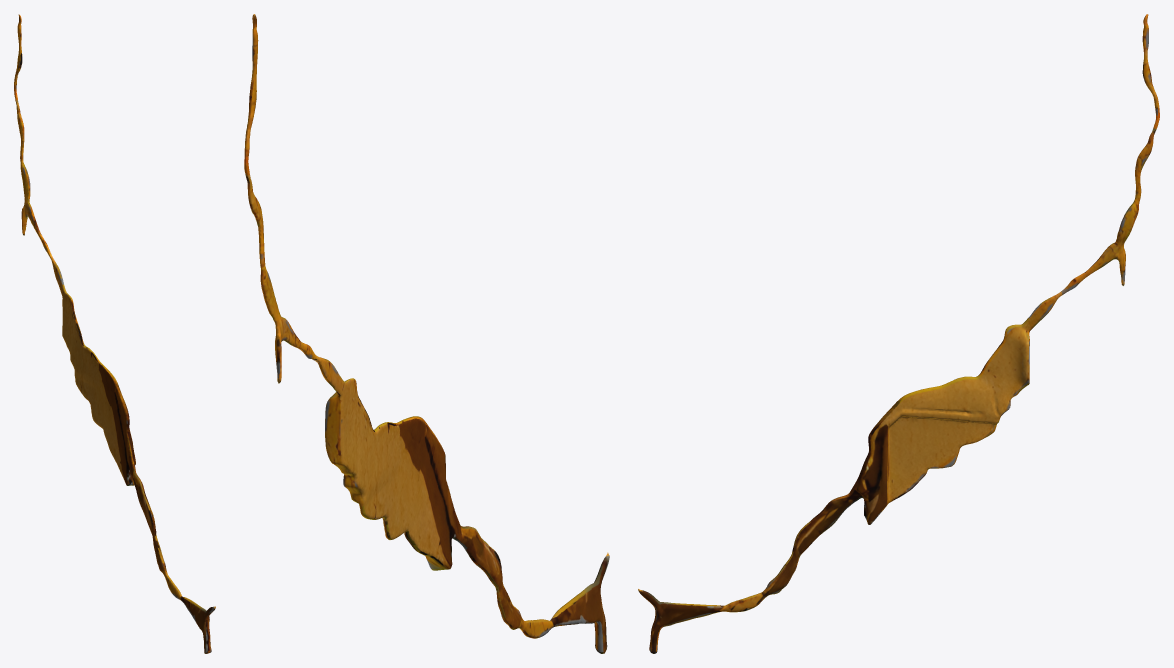
3 views of the same model, side by side, from view 1: azimuth 30°, elevation 25°; view 2: azimuth 150°, elevation 25°; view 3: azimuth 270°, elevation 25° (orthographic). The views are drawn at different scales.
Parts seen in each view (by area): view 1: tripo_node_b3bb3f70-2319-4298-b5f7-a7b85ff54e8c; view 2: tripo_node_b3bb3f70-2319-4298-b5f7-a7b85ff54e8c; view 3: tripo_node_b3bb3f70-2319-4298-b5f7-a7b85ff54e8c.
Part boxes in pixels (box(x1,y1,x2,y2)): tripo_node_b3bb3f70-2319-4298-b5f7-a7b85ff54e8c: box(14, 14, 215, 653); tripo_node_b3bb3f70-2319-4298-b5f7-a7b85ff54e8c: box(244, 14, 609, 653); tripo_node_b3bb3f70-2319-4298-b5f7-a7b85ff54e8c: box(638, 14, 1159, 653).
Size of the model in its own units: 0.0309 by 1 by 0.7369.
1 material, 1 textured.
